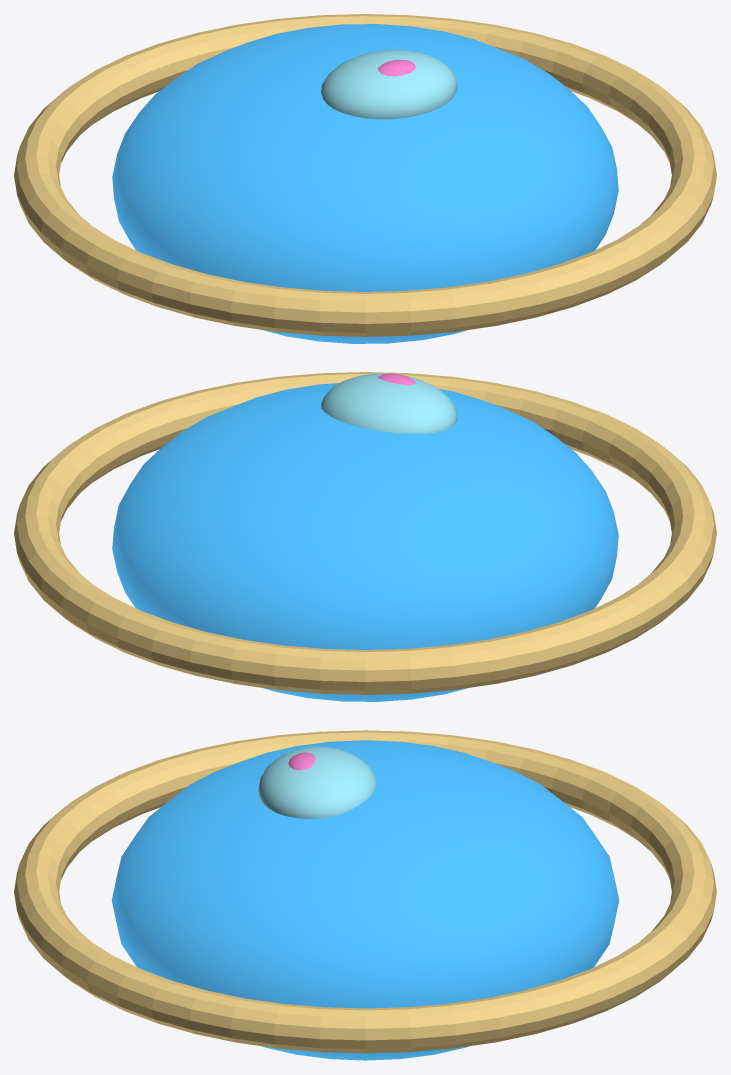
Rendered from SM_Keeper_Nun_Body.fbx.
3 renders of one model, top to bottom at view 1: azimuth 30°, elevation 25°; view 2: azimuth 150°, elevation 25°; view 3: azimuth 270°, elevation 25°, orthographic.
Visible parts, largest first — view 1: SM_Keeper_Nun_Body; view 2: SM_Keeper_Nun_Body; view 3: SM_Keeper_Nun_Body.
Part boxes in pixels (box(x1,y1,x2,y2)): SM_Keeper_Nun_Body: box(14, 14, 716, 343); SM_Keeper_Nun_Body: box(14, 372, 716, 701); SM_Keeper_Nun_Body: box(14, 730, 716, 1060).
Size of the model in its own units: 3.74 by 1.54 by 3.74.
